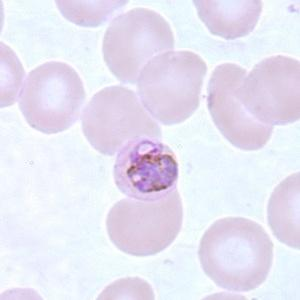Infected: (114, 137, 179, 201)
Uninfected: (207, 62, 273, 149), (102, 6, 175, 83), (81, 85, 160, 156), (197, 216, 272, 290), (135, 49, 207, 125), (104, 191, 181, 257), (18, 59, 85, 132), (237, 53, 299, 125), (191, 0, 264, 40)
